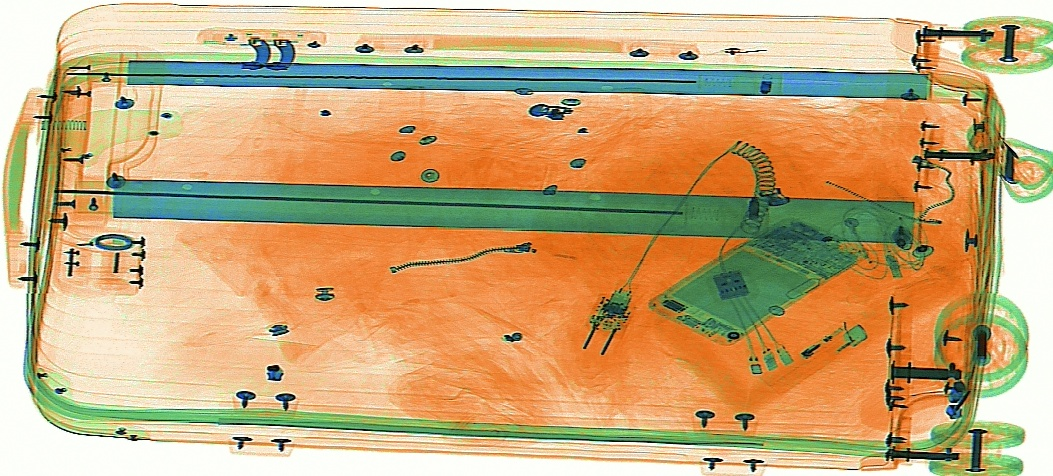lighter: (761, 317, 866, 391)
